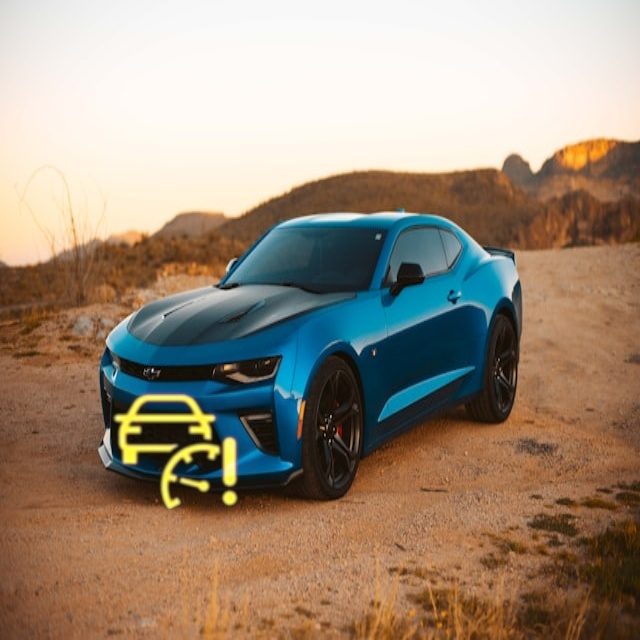symbol: (94, 371, 257, 534)
